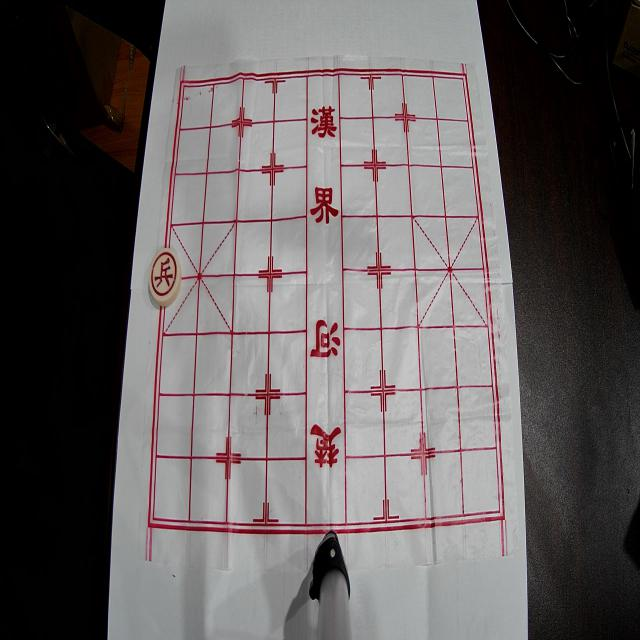red-soldier: (148, 248, 182, 307)
